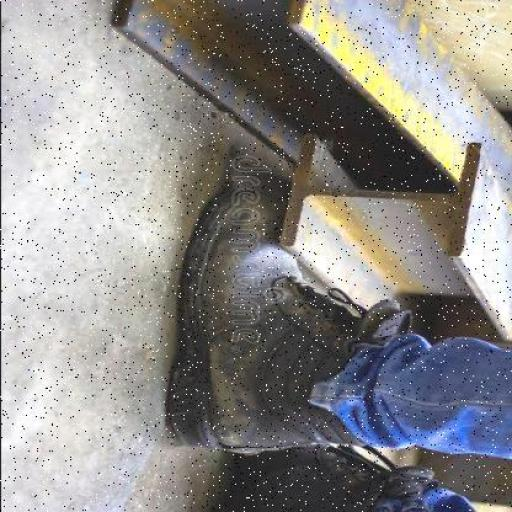safety_shoe: (148, 206, 368, 454)
